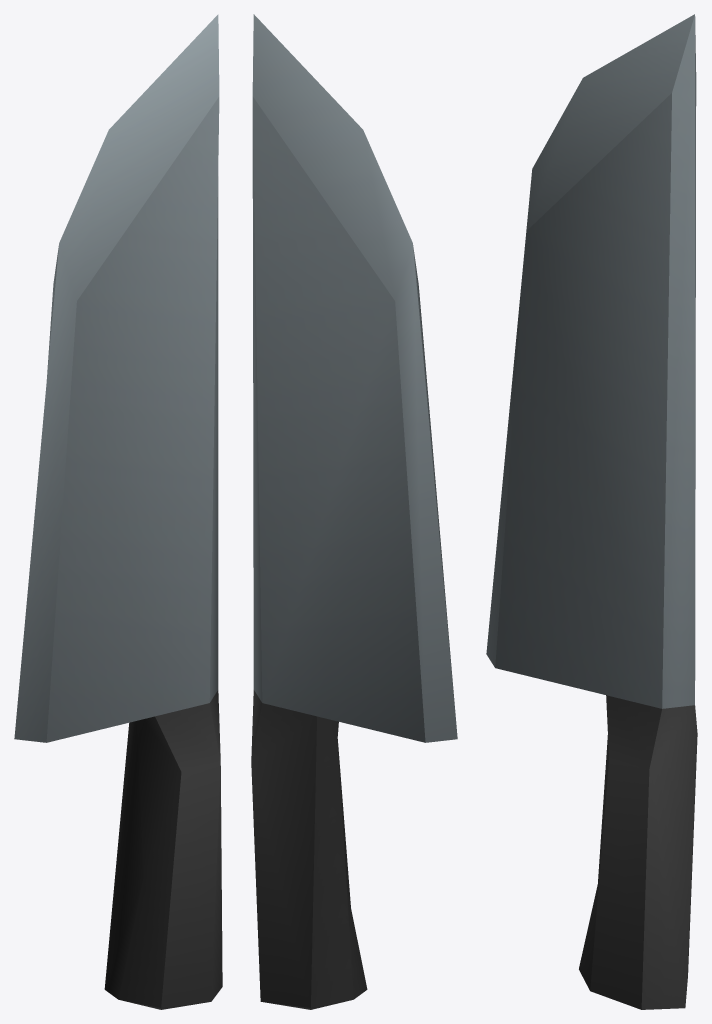
Rendered from cc0-knife-lod1.glb.
The picture shows the model from 3 angles, left to right: view 1: azimuth 30°, elevation 25°; view 2: azimuth 150°, elevation 25°; view 3: azimuth 330°, elevation 25°; orthographic projection. The views are drawn at different scales.
Visible parts, largest first — view 1: part_0; view 2: part_0; view 3: part_0.
Part boxes in pixels (bbox=[...]): part_0: bbox=[14, 14, 222, 1009]; part_0: bbox=[251, 14, 457, 1009]; part_0: bbox=[486, 14, 697, 1009].
Size of the model in its own units: 0.25 by 1.15 by 0.1.
Materials: 1 (1 with a texture image).
